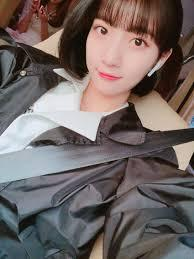earphone: (147, 58, 163, 80)
